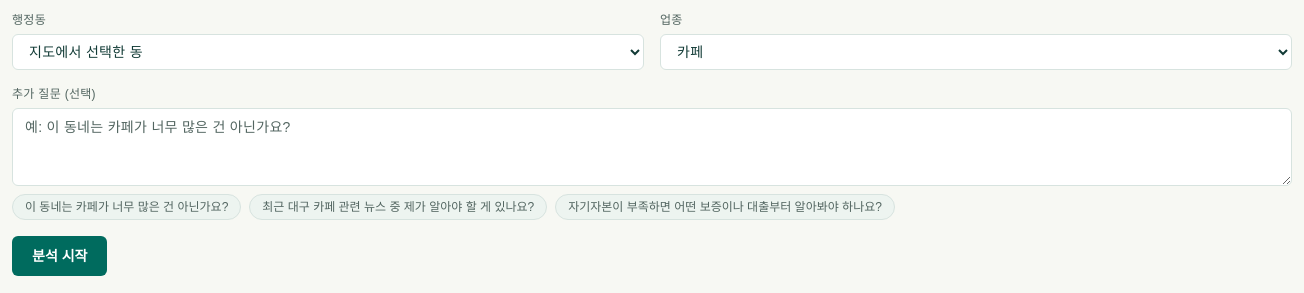
추가 질문 placeholder와 예시 칩은 고른 업종을 따라 바뀐다
expect the number of buttons named "예시 질문:" is 3: met, box [12, 194, 241, 220]; [249, 194, 547, 220]; [555, 194, 895, 220]
Select "학원" in the dropdown labelled "업종". click: {"x": 976, "y": 52}
box: [660, 34, 1292, 70]
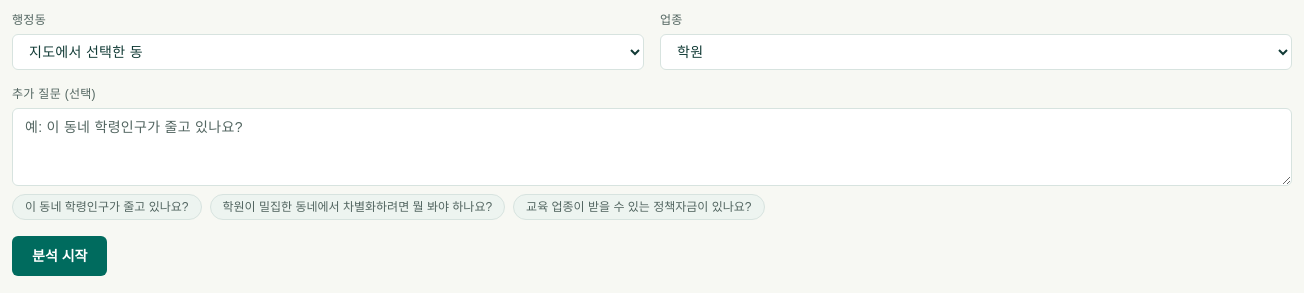
expect the button "교육 업종이 받을 수 있는 정책자금이 있나요?" is shown: met, box [513, 194, 764, 220]
